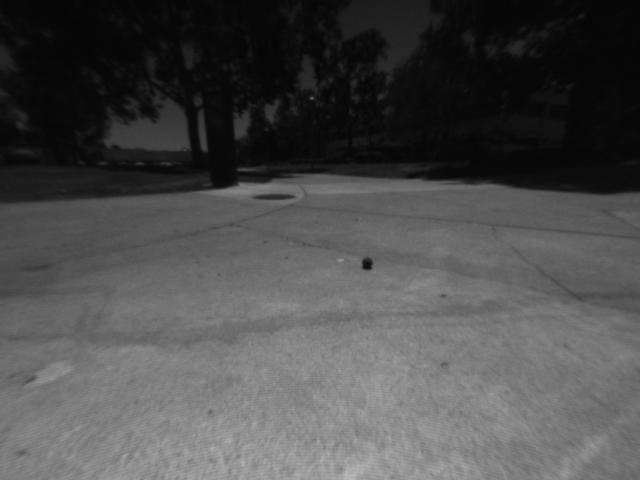dogtoy: (357, 250, 380, 275)
